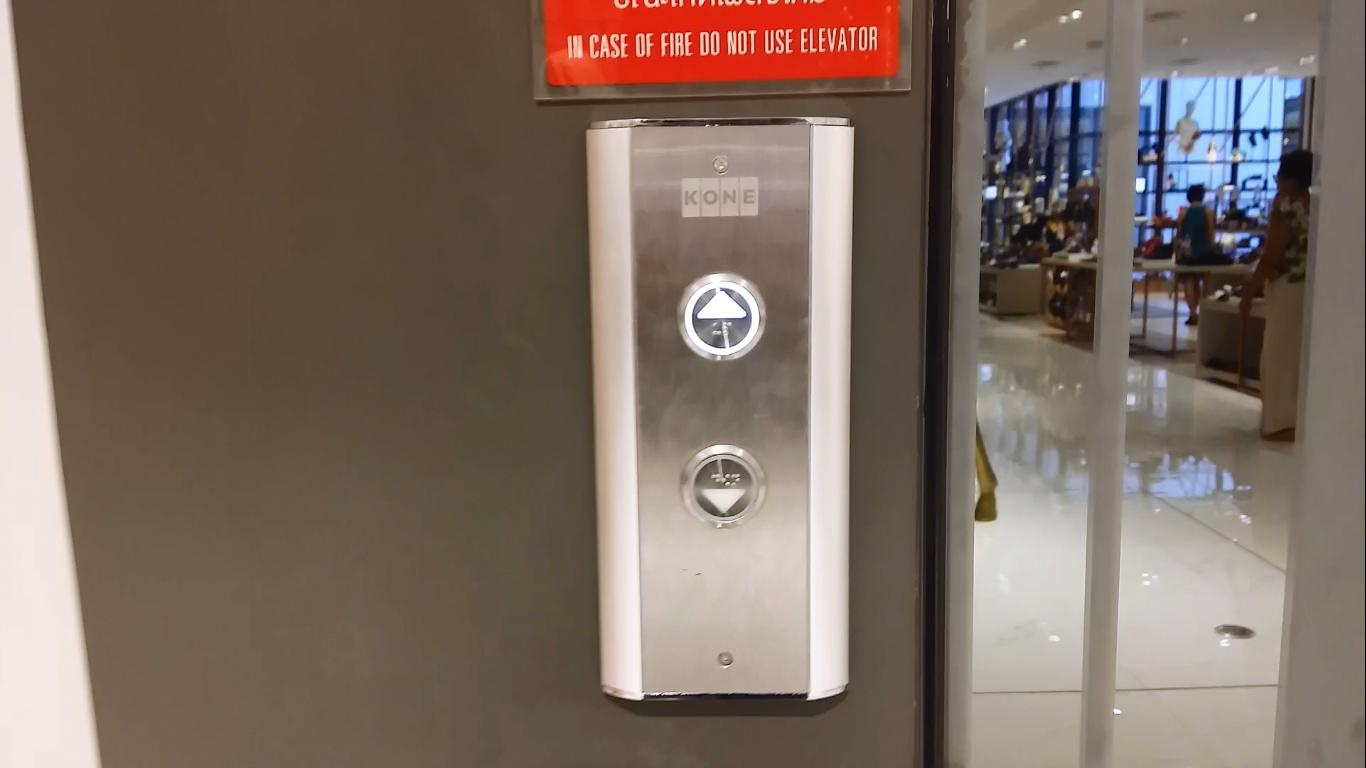down: (679, 444, 766, 529)
up: (677, 271, 767, 362)
